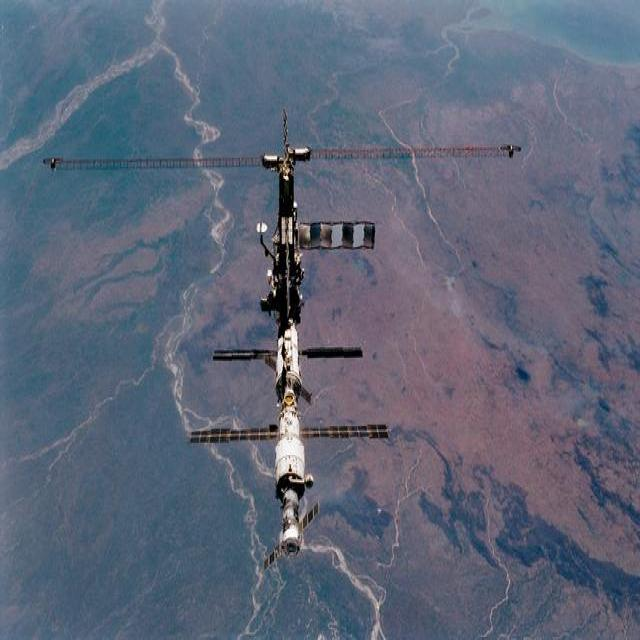satellite: (44, 138, 524, 553)
